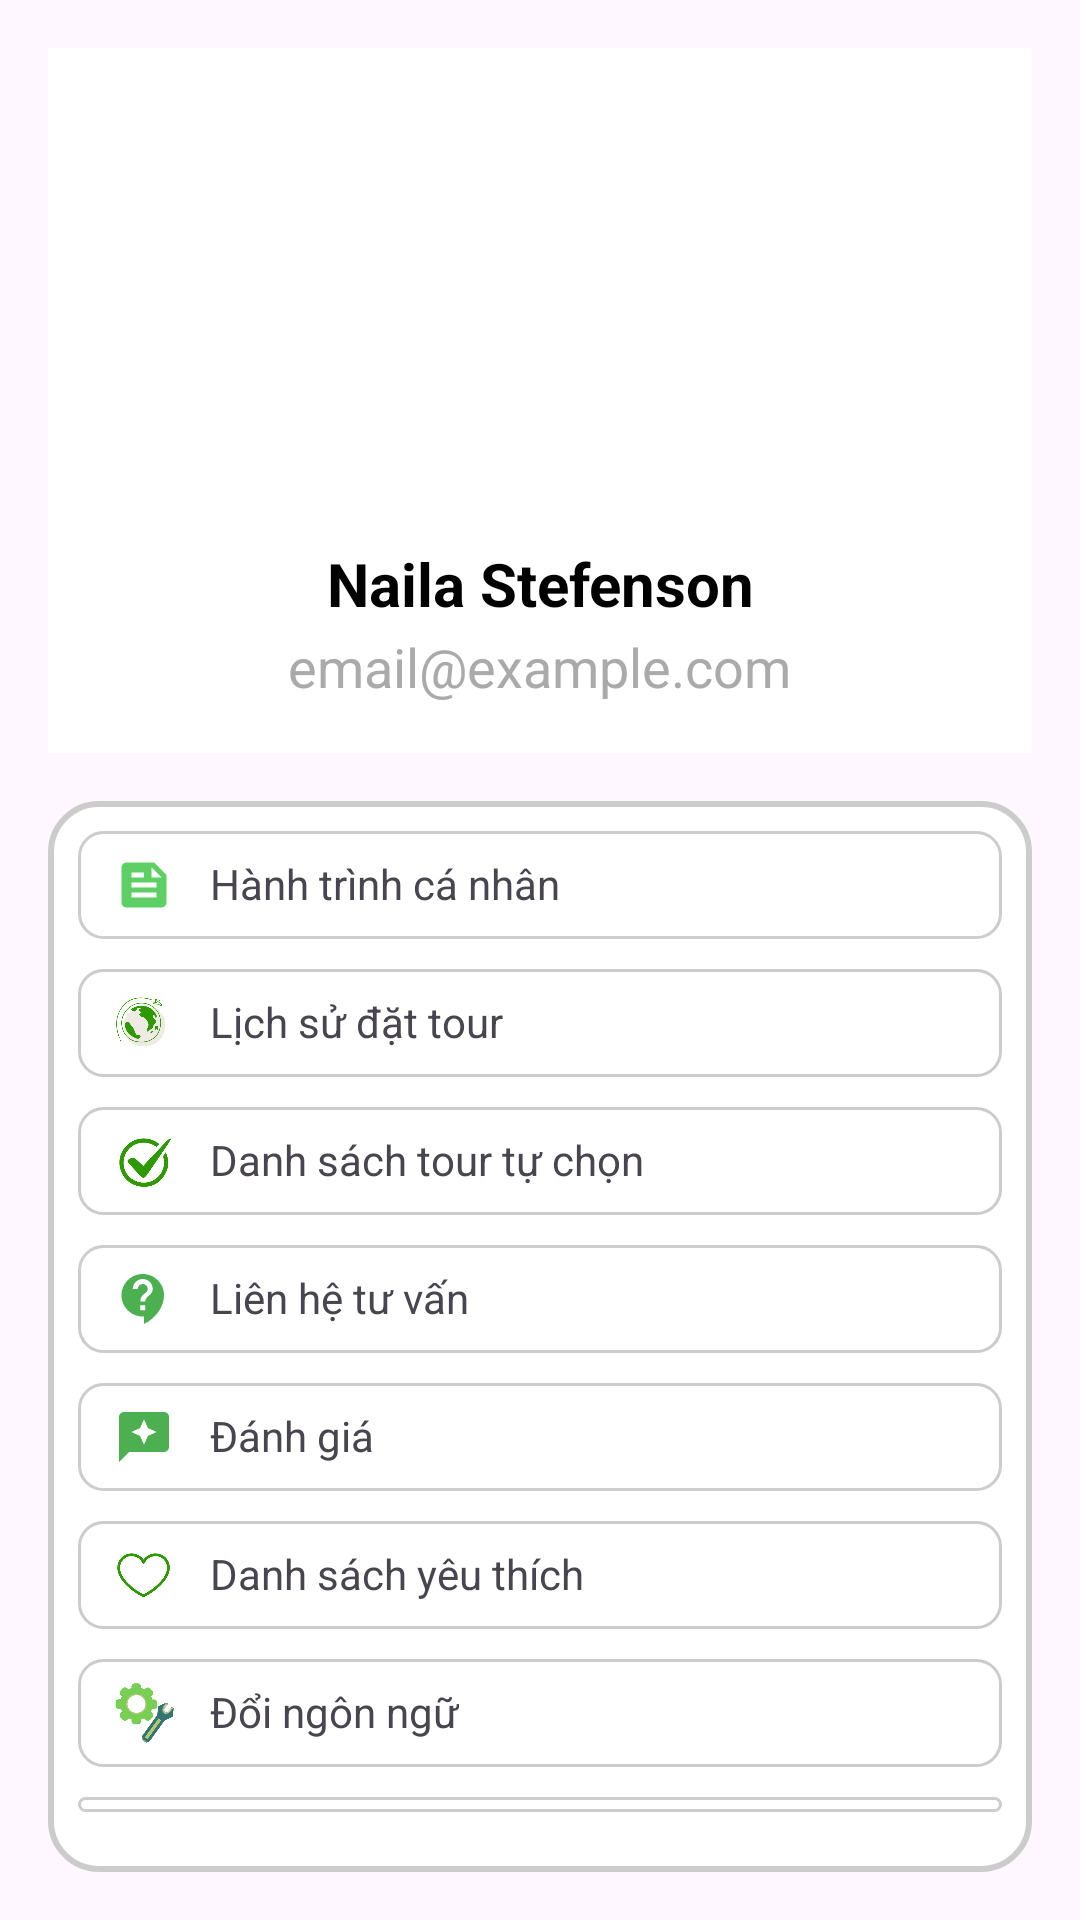

Where icons sit on this 1080w x 1920h app screen, as (left=x1, top=y1, right=x2, bottom=y2):
caidat: (left=115, top=1683, right=174, bottom=1743)
contact: (left=121, top=1274, right=164, bottom=1324)
feed: (left=121, top=862, right=167, bottom=908)
reviews: (left=119, top=1412, right=169, bottom=1462)
touhientai: (left=116, top=997, right=165, bottom=1046)
tourhoanthanh: (left=119, top=1138, right=171, bottom=1187)
yeuthich: (left=117, top=1553, right=170, bottom=1597)
